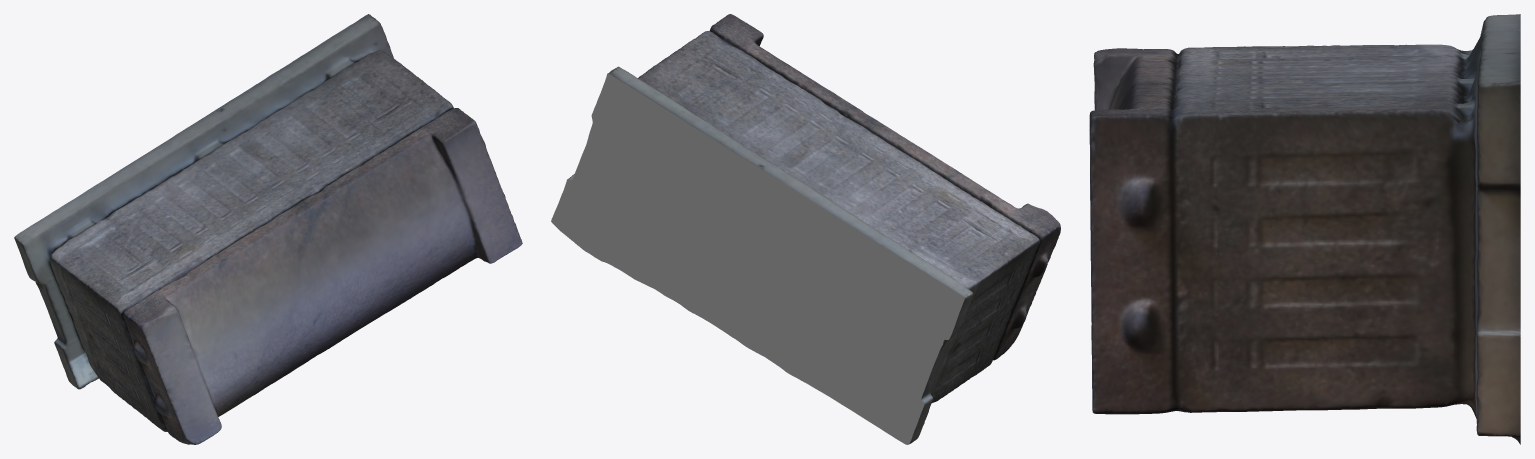
File: sculpt.obj
3 views of the same model, side by side, from view 1: azimuth 30°, elevation 25°; view 2: azimuth 150°, elevation 25°; view 3: azimuth 270°, elevation 25° (orthographic). The views are drawn at different scales.
Bounding box in the file's own units: 20.27 × 13.98 × 9.81.
